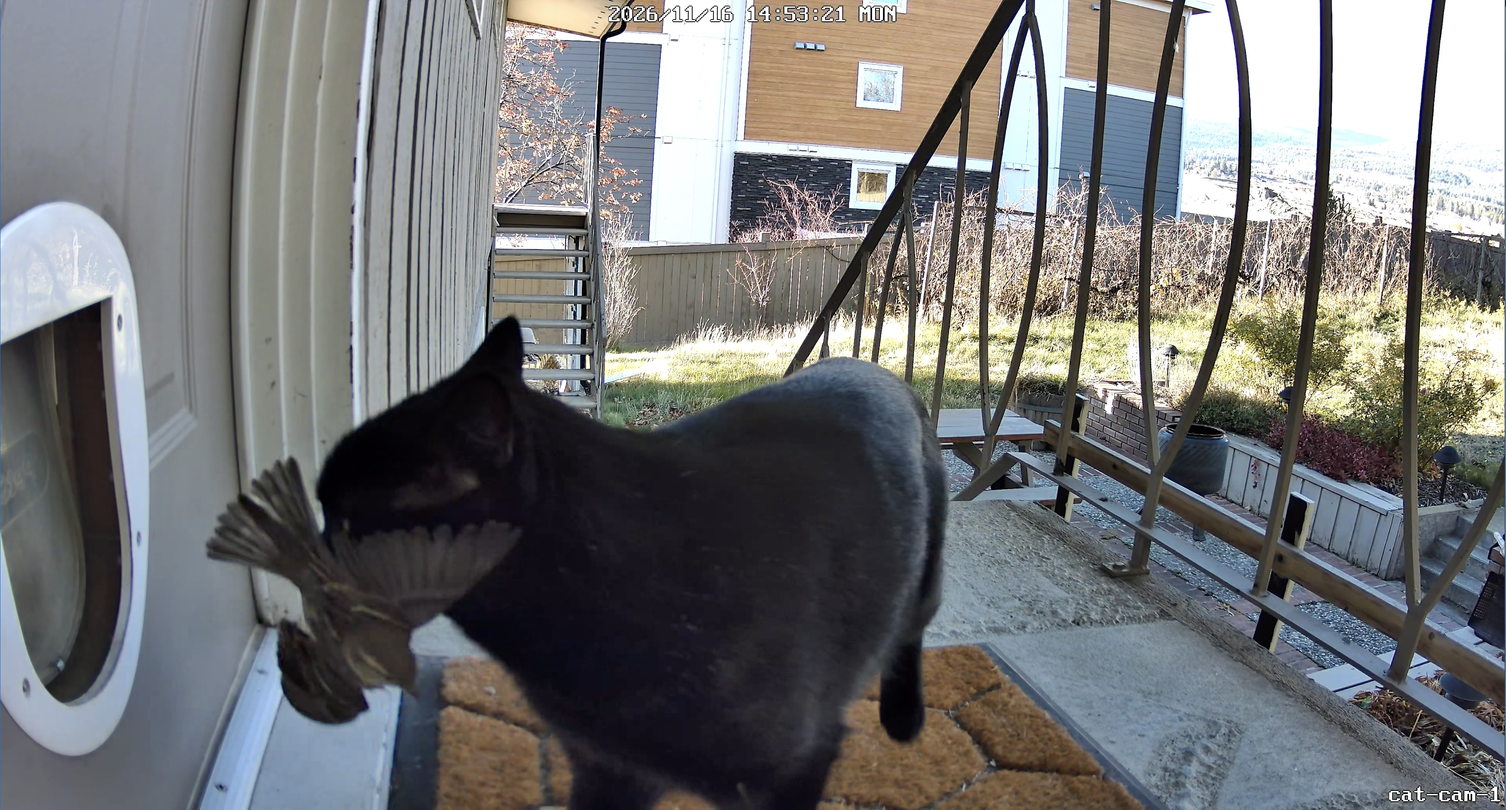prey: (203, 454, 520, 725)
